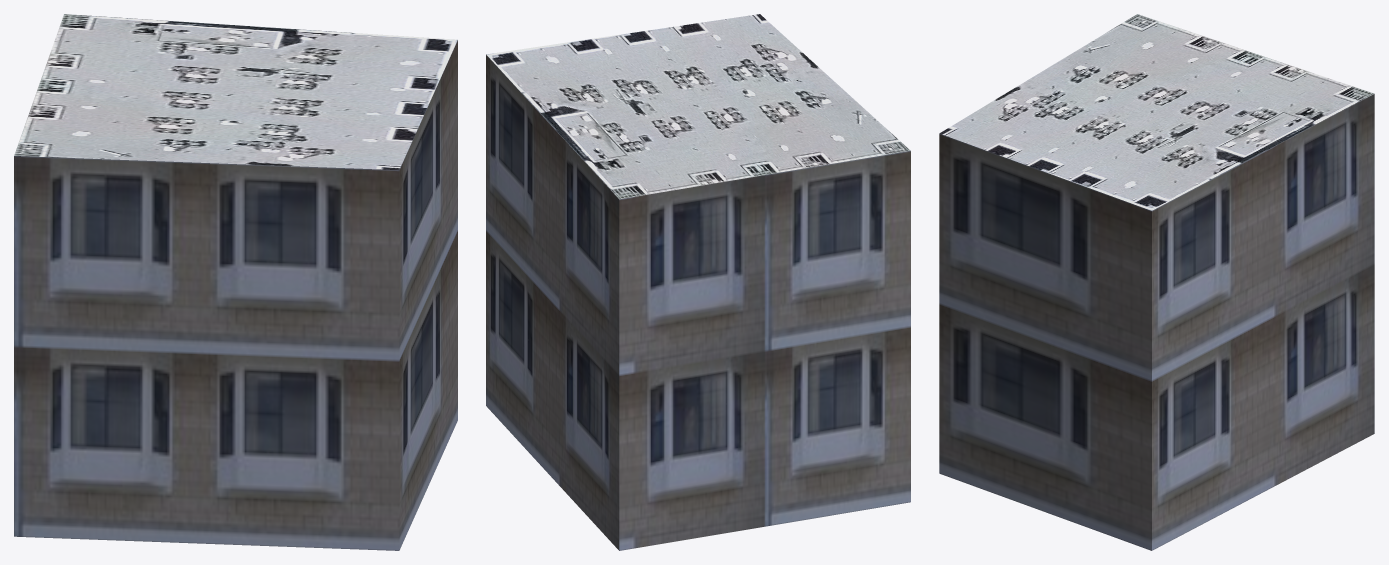
Rendered from ResTex__87.fbx.
The picture shows the model from 3 angles, left to right: view 1: azimuth 30°, elevation 25°; view 2: azimuth 150°, elevation 25°; view 3: azimuth 270°, elevation 25°; orthographic projection. The views are drawn at different scales.
Visible parts, largest first — view 1: CityEngineMaterial_3_m, CityEngineMaterial_4_m; view 2: CityEngineMaterial_3_m, CityEngineMaterial_4_m; view 3: CityEngineMaterial_3_m, CityEngineMaterial_4_m.
Boxes of the visible parts, bbox=[...] form: CityEngineMaterial_3_m: bbox=[14, 40, 457, 550]; CityEngineMaterial_4_m: bbox=[14, 14, 457, 169]; CityEngineMaterial_3_m: bbox=[486, 54, 910, 550]; CityEngineMaterial_4_m: bbox=[486, 14, 910, 199]; CityEngineMaterial_3_m: bbox=[939, 94, 1374, 550]; CityEngineMaterial_4_m: bbox=[939, 14, 1374, 210].
Size of the model in its own units: 7.45 by 6 by 6.96.
Materials: 2 (2 with a texture image).
